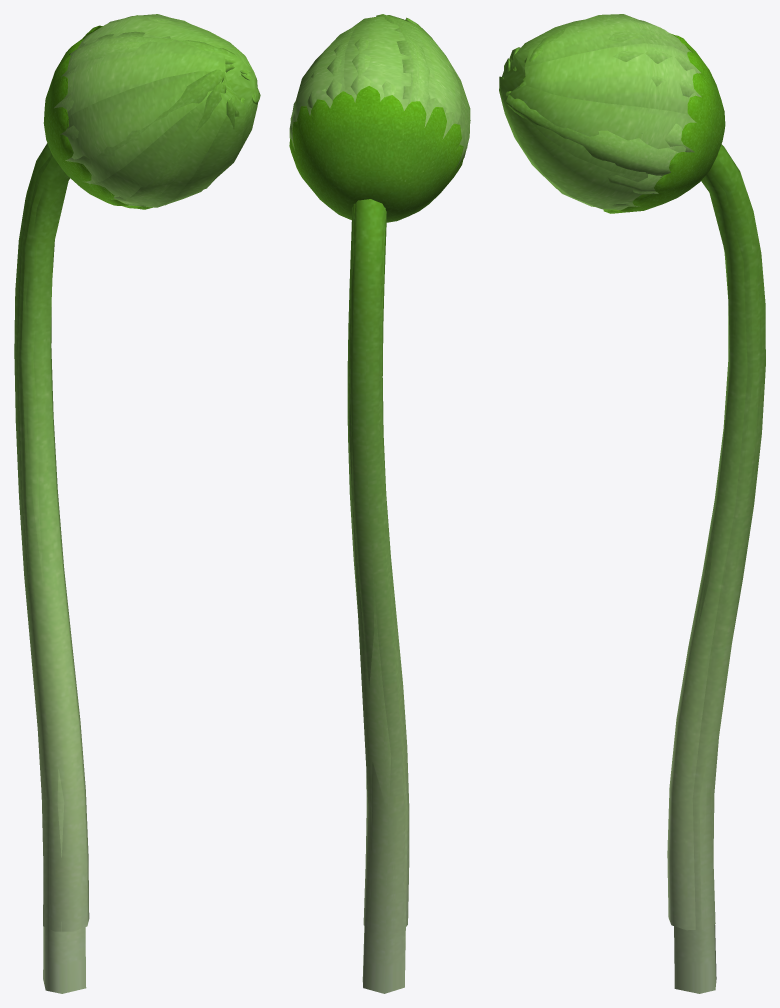
File: POI_Flower_m_Lod0.fbx
3 renders of one model, left to right at view 1: azimuth 30°, elevation 25°; view 2: azimuth 150°, elevation 25°; view 3: azimuth 270°, elevation 25°, orthographic. The views are drawn at different scales.
Parts seen in each view (by area): view 1: mesh_Flower_m_stem, mesh_Flower_m_Lod1_14, mesh_Flower_m_Lod1_13, mesh_Flower_m_petals, mesh_Flower_m_calyx; view 2: mesh_Flower_m_stem, mesh_Flower_m_calyx, mesh_Flower_m_Lod1_13, mesh_Flower_m_Lod1_14, mesh_Flower_m_petals; view 3: mesh_Flower_m_Lod1_14, mesh_Flower_m_stem, mesh_Flower_m_Lod1_13, mesh_Flower_m_petals, mesh_Flower_m_calyx.
Part boxes in pixels (<box>): mesh_Flower_m_stem: <box>14,143,89,931</box>; mesh_Flower_m_Lod1_14: <box>64,14,257,207</box>; mesh_Flower_m_Lod1_13: <box>17,154,86,993</box>; mesh_Flower_m_petals: <box>54,15,260,206</box>; mesh_Flower_m_calyx: <box>43,25,152,209</box>; mesh_Flower_m_stem: <box>347,199,409,933</box>; mesh_Flower_m_calyx: <box>289,86,463,222</box>; mesh_Flower_m_Lod1_13: <box>349,203,407,993</box>; mesh_Flower_m_Lod1_14: <box>290,15,470,169</box>; mesh_Flower_m_petals: <box>289,14,470,159</box>; mesh_Flower_m_Lod1_14: <box>500,15,696,209</box>; mesh_Flower_m_stem: <box>667,144,765,930</box>; mesh_Flower_m_Lod1_13: <box>674,154,762,993</box>; mesh_Flower_m_petals: <box>499,14,701,209</box>; mesh_Flower_m_calyx: <box>603,33,725,213</box>.
Bounding box in the file's own units: 2.85 × 15.38 × 3.79.
Materials: 1 (1 with a texture image).
